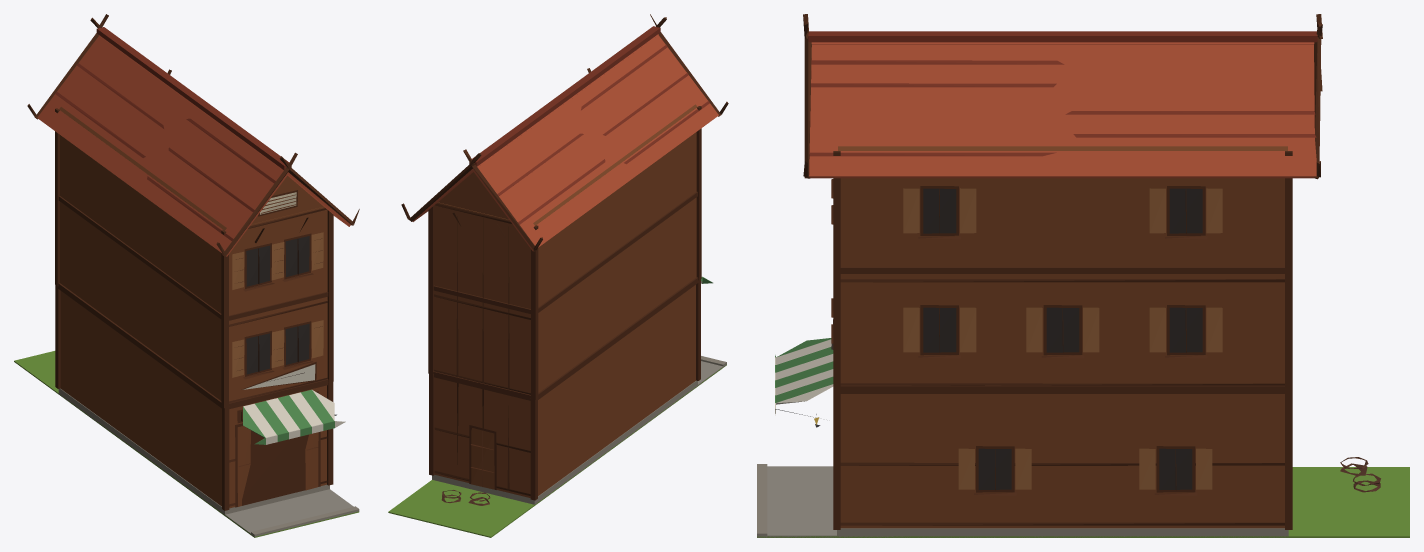
File: bay2_right.glb
The picture shows the model from 3 angles, left to right: view 1: azimuth 30°, elevation 25°; view 2: azimuth 150°, elevation 25°; view 3: azimuth 270°, elevation 25°; orthographic projection. The views are drawn at different scales.
Parts seen in each view (by area): view 1: body, windows; view 2: body; view 3: body, windows.
Boxes of the visible parts, x1,y1,x2,y2 form: body: (14, 14, 359, 537); windows: (246, 236, 309, 374); body: (388, 14, 728, 537); body: (757, 14, 1409, 537); windows: (814, 188, 1202, 489).
Size of the model in its own units: 5.52 by 13.03 by 15.9.
